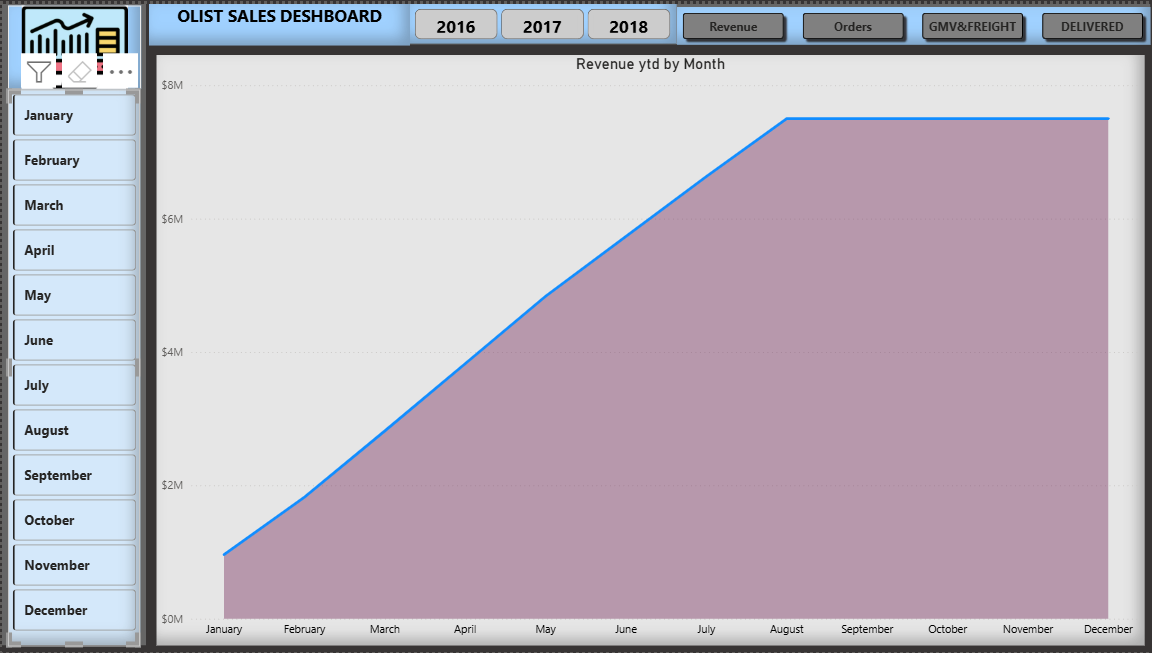

The dashboard page shown, as its layout file describes it:
{"tool":"powerbi","page":{"name":"YTD","canvas":[1280,720],"ordinal":4},"visuals":[{"type":"shape","box":[0,0,160,712.5],"z":0},{"type":"shape","box":[163.8,0,1112.5,45],"z":1000},{"type":"advancedSlicerVisual","fields":{"Values":["custom date.Date.Variation.Date Hierarchy.Month"]},"box":[6.2,95,147.5,617.5],"z":2000},{"type":"advancedSlicerVisual","fields":{"Values":["custom date.Date.Variation.Date Hierarchy.Year"]},"box":[454,0,296,44],"z":3000},{"type":"lineChart","fields":{"Category":["custom date.Date.Variation.Date Hierarchy.Month"],"Y":["public olist_master_cleaned.Revenue ytd"]},"box":[172,56,1098,656],"z":4000},{"type":"pageNavigator","box":[750,4,526,42],"z":5000},{"type":"textbox","box":[164,0,290,46],"z":6000},{"type":"image","box":[7.1,1.8,148.2,92.9],"z":7000}]}

Visuals, with their boxes in screenshot pixels (x1, y1, x2, y2), scaled from the page's 1280x720 canvas onto the 1152x653 screenshot:
shape: region(0, 0, 144, 646)
shape: region(147, 0, 1149, 41)
advancedSlicerVisual - custom date.Date.Variation.Date Hierarchy.Month: region(6, 86, 138, 646)
advancedSlicerVisual - custom date.Date.Variation.Date Hierarchy.Year: region(409, 0, 675, 40)
lineChart - custom date.Date.Variation.Date Hierarchy.Month x public olist_master_cleaned.Revenue ytd: region(155, 51, 1143, 646)
pageNavigator: region(675, 4, 1148, 42)
textbox: region(148, 0, 409, 42)
image: region(6, 2, 140, 86)
